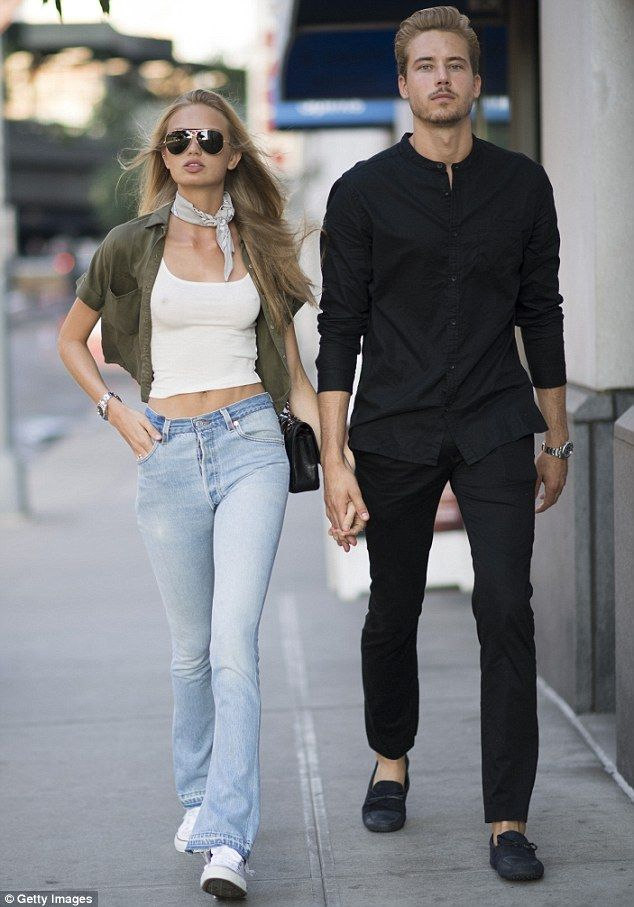Person: (56, 86, 356, 902), (314, 4, 574, 884)
